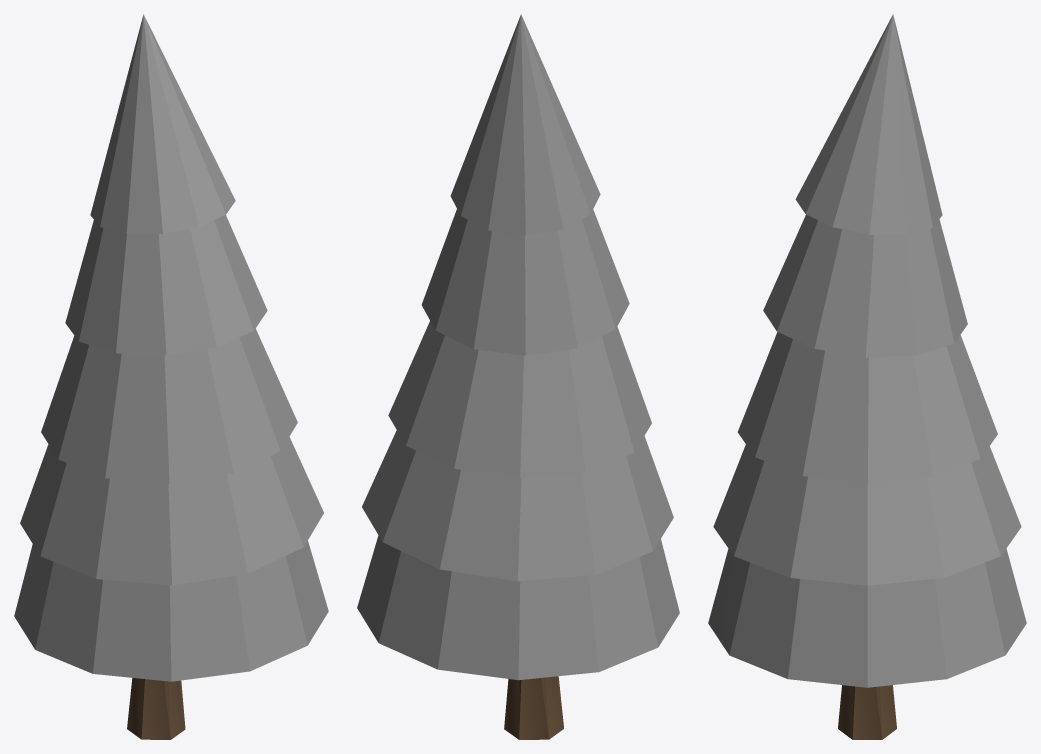
The model's file is tree_conifer_white_2.glb.
The picture shows the model from 3 angles, left to right: view 1: azimuth 30°, elevation 25°; view 2: azimuth 150°, elevation 25°; view 3: azimuth 270°, elevation 25°; orthographic projection. The views are drawn at different scales.
Visible parts, largest first — view 1: Tree Conifer 2.173; view 2: Tree Conifer 2.173; view 3: Tree Conifer 2.173.
Part boxes in pixels (x1,y1,x2,y2): Tree Conifer 2.173: [14, 14, 328, 739]; Tree Conifer 2.173: [357, 14, 679, 739]; Tree Conifer 2.173: [708, 14, 1026, 739].
Size of the model in its own units: 0.1757 by 0.4352 by 0.1758.
